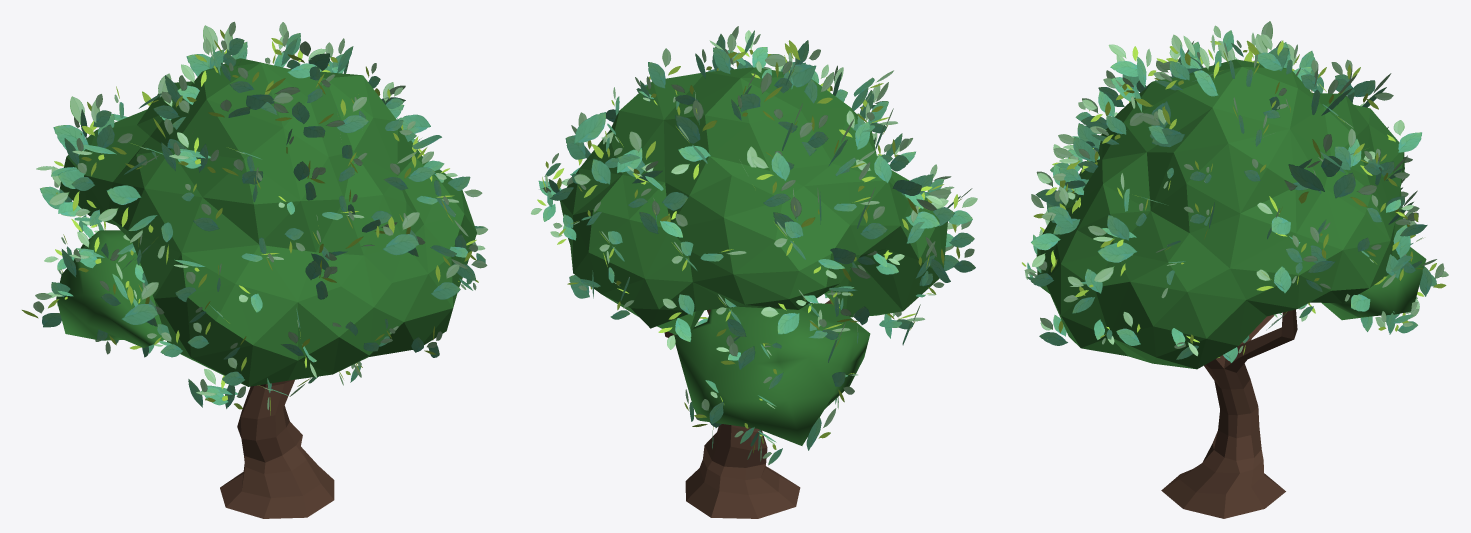
The model's file is tree_03_textured.fbx.
3 renders of one model, left to right at view 1: azimuth 30°, elevation 25°; view 2: azimuth 150°, elevation 25°; view 3: azimuth 270°, elevation 25°, orthographic.
Parts seen in each view (by area): view 1: polySurface2045, Leaves, polySurface2046, pPlatonic4; view 2: polySurface2045, Leaves, pPlatonic4, polySurface2046; view 3: polySurface2045, Leaves, polySurface2046, pPlatonic4.
Part boxes in pixels (x1,y1,x2,y2): polySurface2045: (60, 58, 476, 386); Leaves: (22, 21, 487, 415); polySurface2046: (220, 379, 334, 518); pPlatonic4: (56, 230, 164, 347); polySurface2045: (560, 67, 947, 334); Leaves: (531, 26, 977, 465); pPlatonic4: (674, 303, 870, 445); polySurface2046: (664, 300, 831, 518); polySurface2045: (1036, 59, 1404, 369); Leaves: (1022, 21, 1448, 362); polySurface2046: (1161, 309, 1297, 518); pPlatonic4: (1321, 247, 1426, 320).
Bounding box in the file's own units: 6.16 × 6.9 × 6.05.
3 materials, 1 textured.
